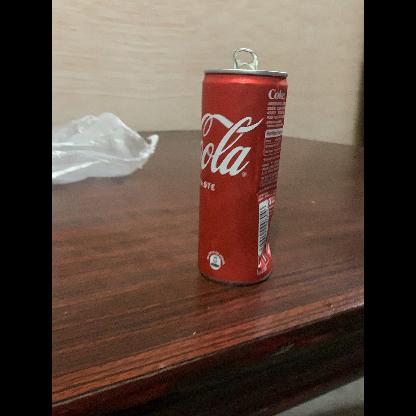Dent_Can: (248, 183, 276, 213), (252, 237, 274, 275)
Lid_Open: (226, 43, 266, 82)
Tin_Can: (187, 41, 288, 301)
